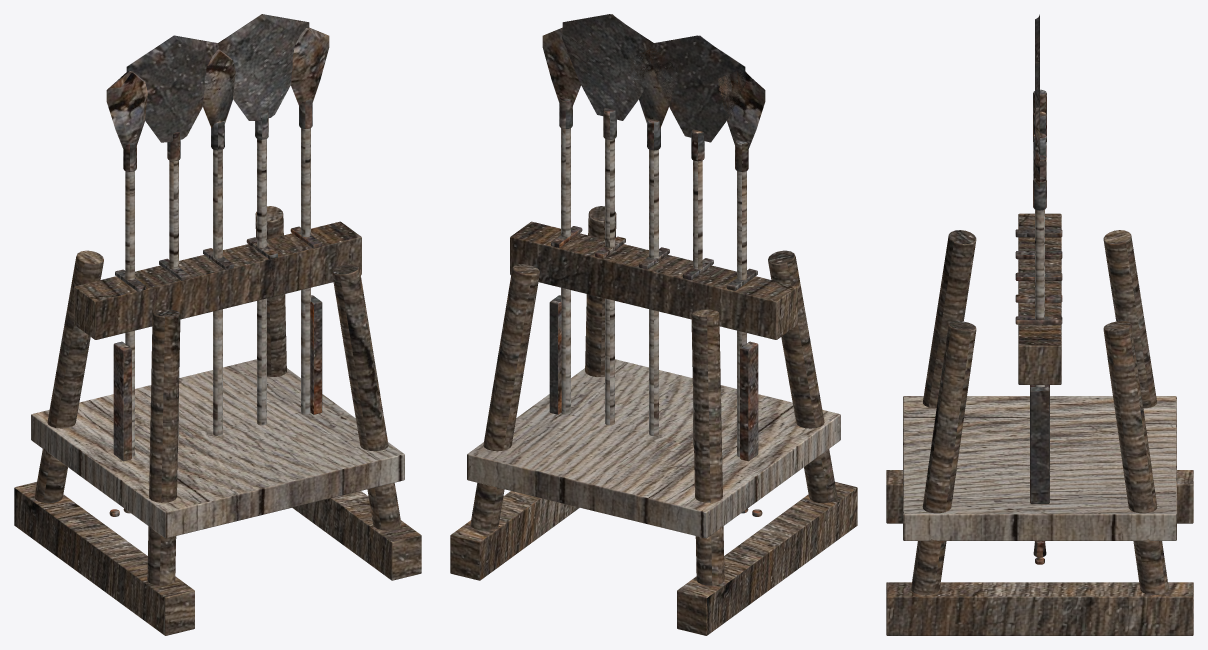
Rendered from watchtower-arms-rack-v02.glb.
3 renders of one model, left to right at view 1: azimuth 30°, elevation 25°; view 2: azimuth 150°, elevation 25°; view 3: azimuth 270°, elevation 25°, orthographic.
Parts seen in each view (by area): view 1: watchtower-arms-rack-v02; view 2: watchtower-arms-rack-v02; view 3: watchtower-arms-rack-v02.
Boxes of the visible parts, box(x1,y1,x2,y2) form: watchtower-arms-rack-v02: box(14, 14, 421, 635); watchtower-arms-rack-v02: box(450, 14, 857, 635); watchtower-arms-rack-v02: box(886, 14, 1193, 635).
Bounding box in the file's own units: 1.58 × 2.97 × 1.55.
Materials: 3 (3 with a texture image).
